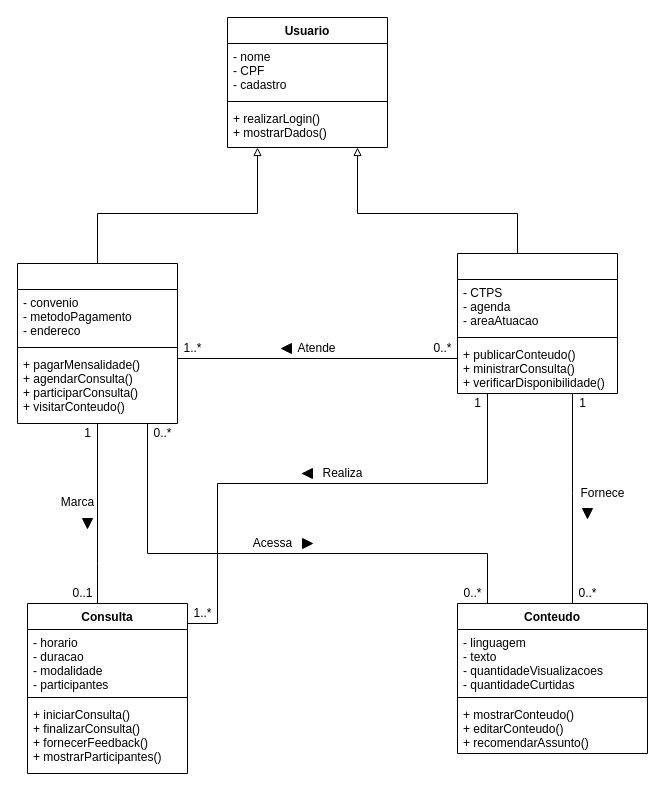
The diagram is 665 pixels wide and 794 high, and some of its shapes have lost their labels. The shapes that lost their labels are listed below. From the top down, each one's box as (x1, y1, x2, y2) in pixels, then its label:
(16, 262, 178, 424): Paciente
(456, 252, 618, 394): Profissional
